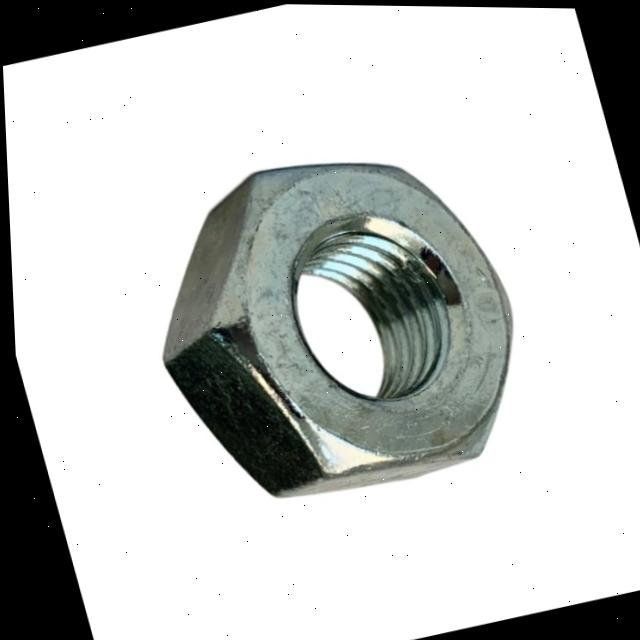Dry: (110, 110, 554, 531)
